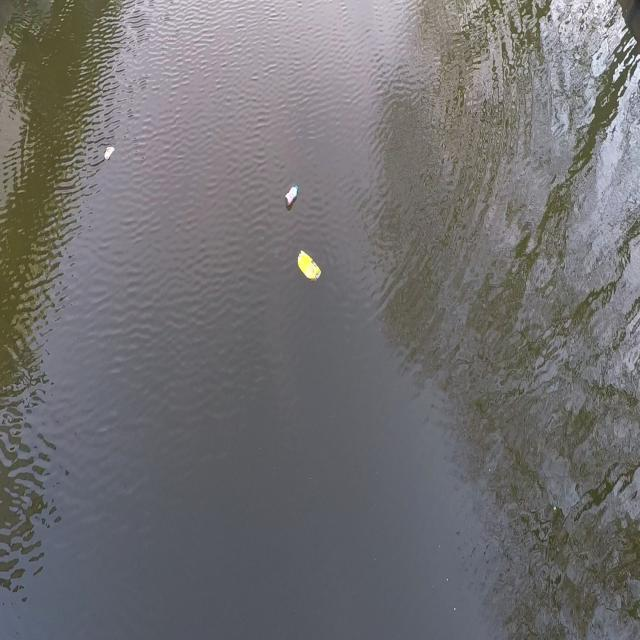Autre plastique: (294, 248, 324, 288)
Bouteille plastique: (283, 186, 298, 210)
